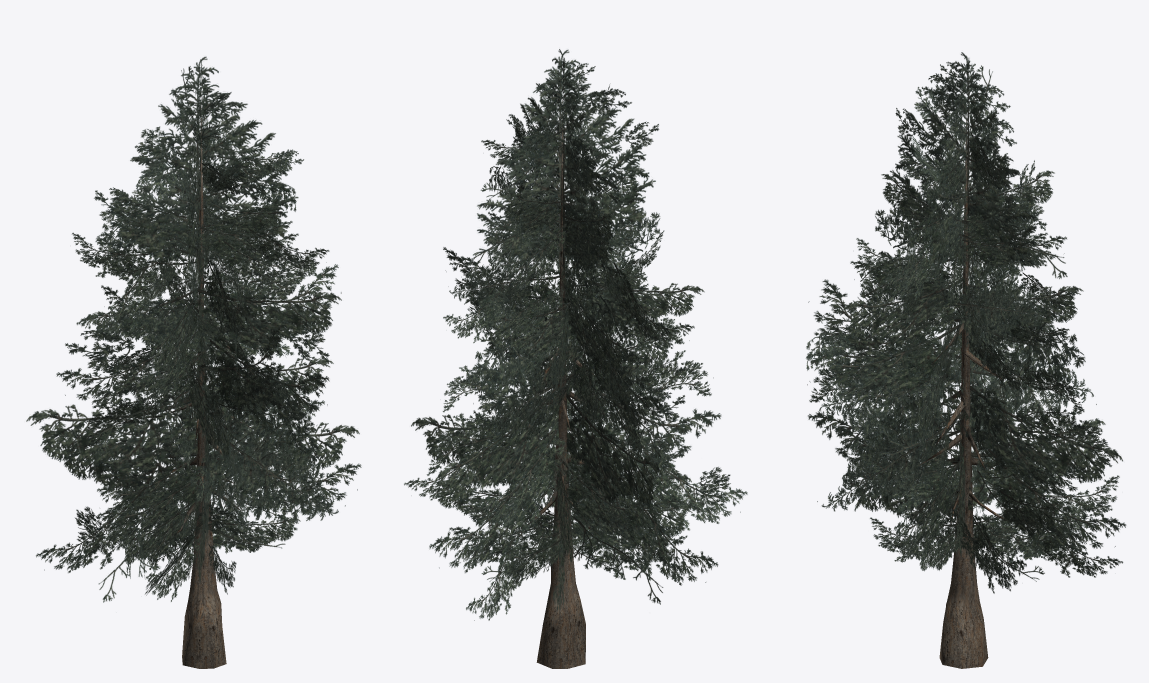
File: forest_oak_1.glb
The picture shows the model from 3 angles, left to right: view 1: azimuth 30°, elevation 25°; view 2: azimuth 150°, elevation 25°; view 3: azimuth 270°, elevation 25°; orthographic projection.
Visible parts, largest first — view 1: Tree_Branches_01.001_Tree_Branches_01_0, Tree_Trunk_01_Tree_Trunk_01_0; view 2: Tree_Branches_01.001_Tree_Branches_01_0, Tree_Trunk_01_Tree_Trunk_01_0; view 3: Tree_Branches_01.001_Tree_Branches_01_0, Tree_Trunk_01_Tree_Trunk_01_0.
Part boxes in pixels (<box>): Tree_Branches_01.001_Tree_Branches_01_0: <box>26,56,361,602</box>; Tree_Trunk_01_Tree_Trunk_01_0: <box>169,105,253,668</box>; Tree_Branches_01.001_Tree_Branches_01_0: <box>404,49,747,620</box>; Tree_Trunk_01_Tree_Trunk_01_0: <box>527,99,602,668</box>; Tree_Branches_01.001_Tree_Branches_01_0: <box>806,52,1126,593</box>; Tree_Trunk_01_Tree_Trunk_01_0: <box>917,104,1006,668</box>.
Size of the model in its own units: 2.96 by 5.17 by 2.73.
2 materials, 2 textured.
